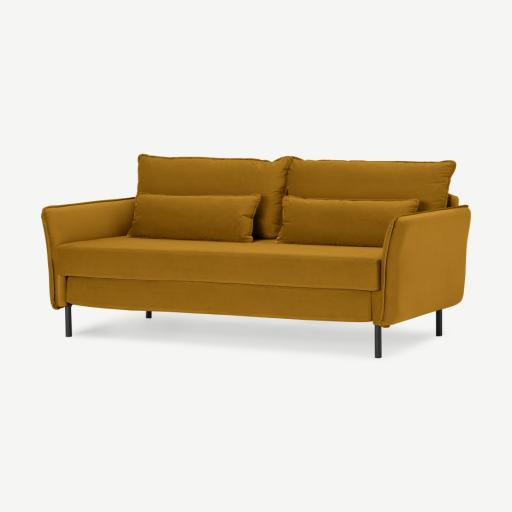back_cushion: (128, 155, 455, 246)
base: (67, 276, 380, 321)
left_arm: (383, 206, 470, 318)
legs: (64, 304, 72, 337), (375, 326, 382, 358), (436, 310, 442, 335), (145, 311, 152, 318)
right_arm: (42, 198, 134, 308)
seat_cushion: (56, 237, 381, 291)
two-seater: (0, 0, 511, 512)
